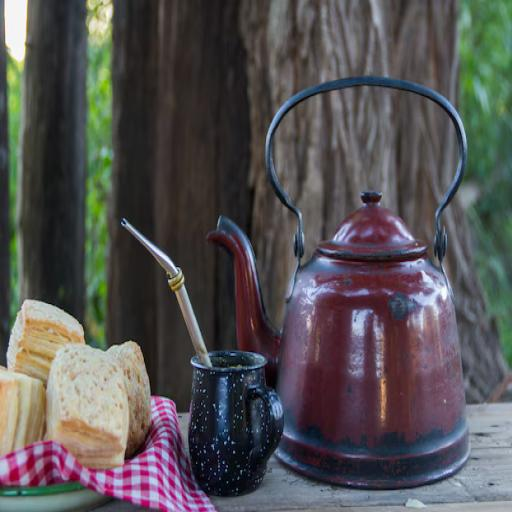bolleria: (0, 300, 151, 468)
mate: (185, 348, 287, 498)
